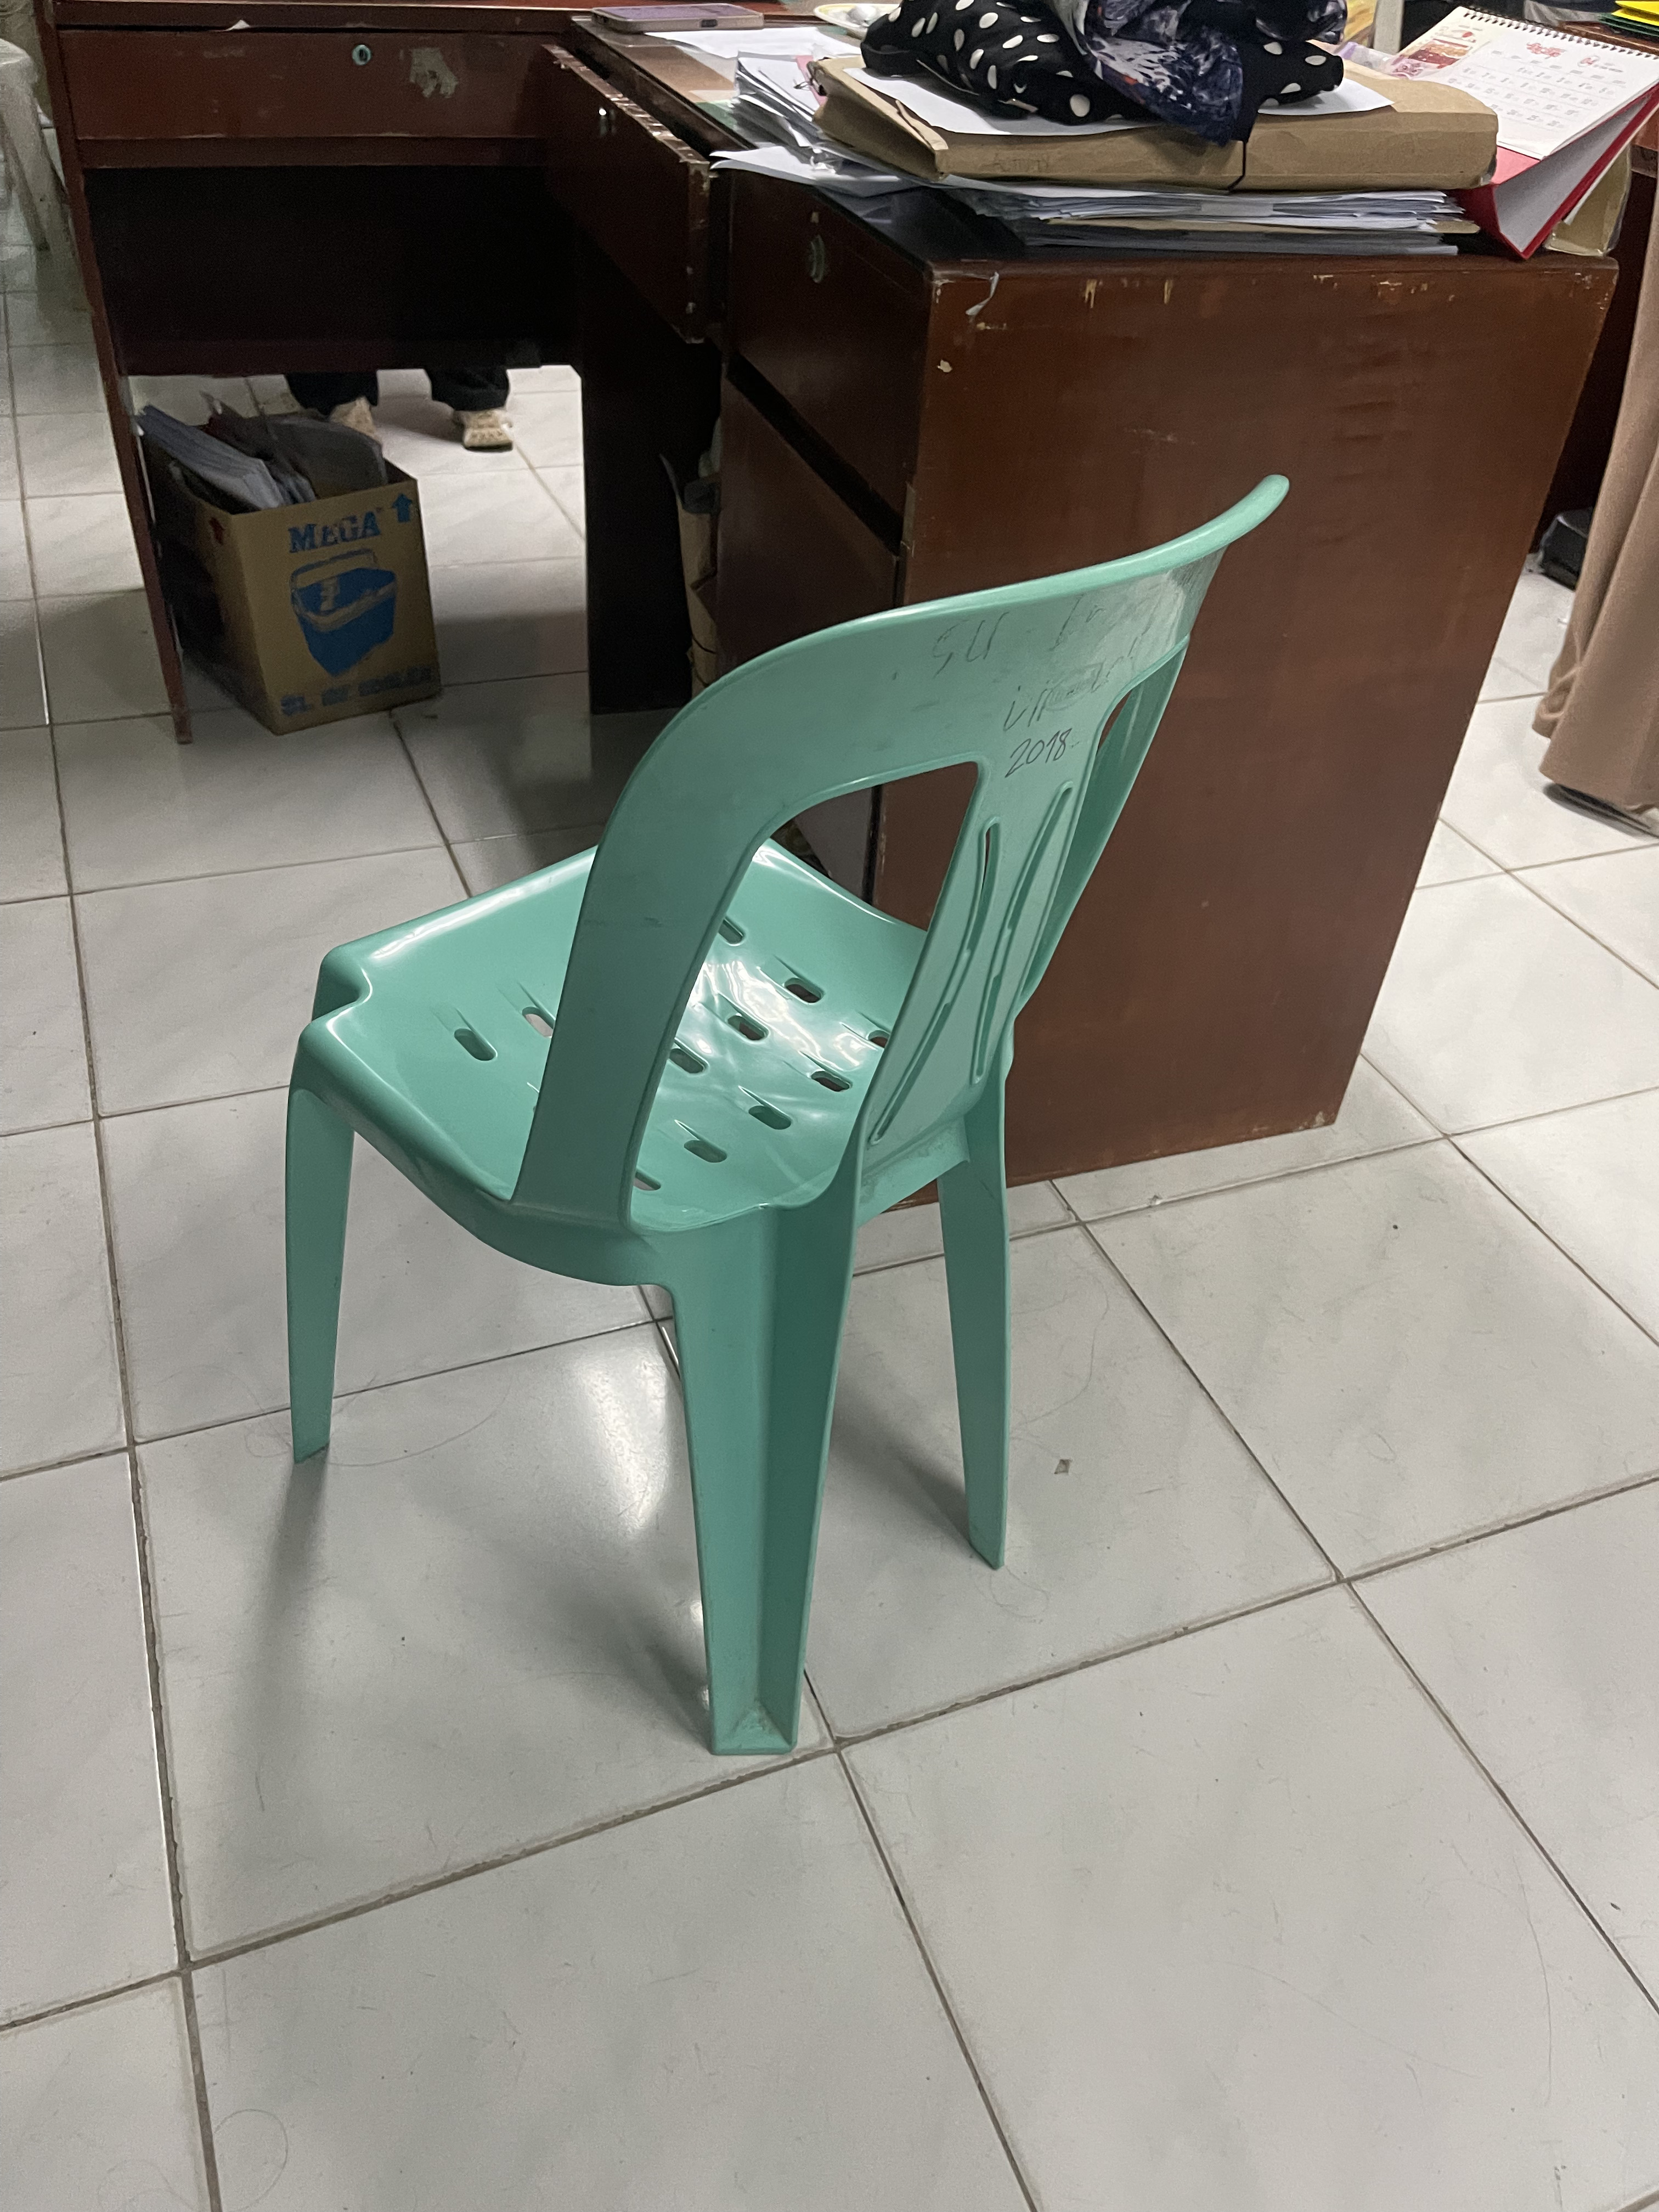chair2: (267, 460, 1310, 1764)
